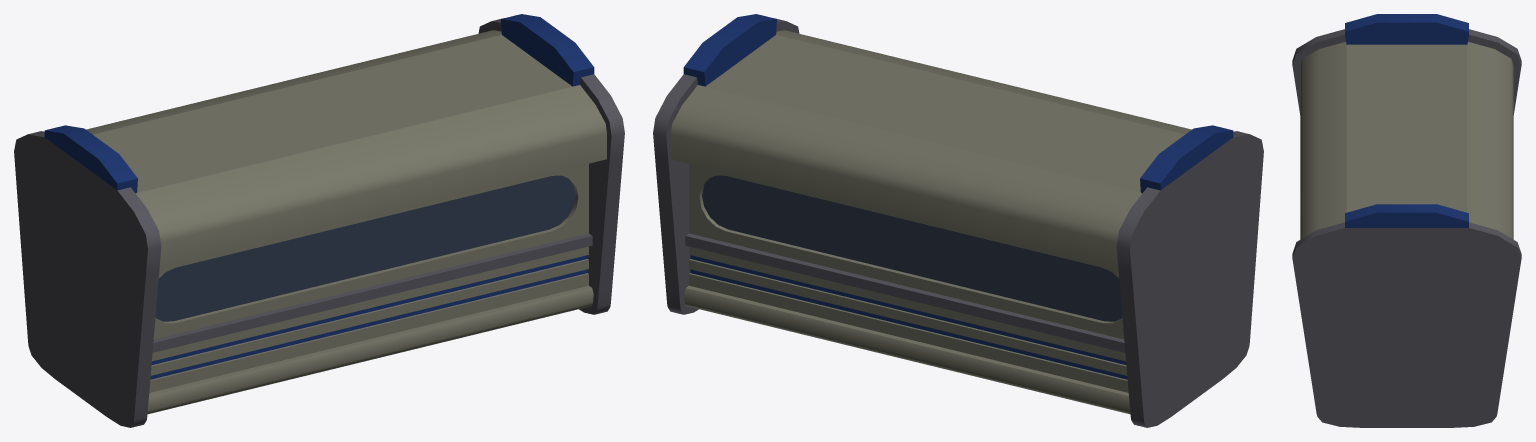
Rendered from LPSciFi_DoorwayLong.fbx.
3 views of the same model, side by side, from view 1: azimuth 30°, elevation 25°; view 2: azimuth 150°, elevation 25°; view 3: azimuth 270°, elevation 25° (orthographic). The views are drawn at different scales.
Parts seen in each view (by area): view 1: DoorwayLong; view 2: DoorwayLong; view 3: DoorwayLong.
Boxes of the visible parts, bbox=[...] form: DoorwayLong: bbox=[14, 14, 624, 427]; DoorwayLong: bbox=[653, 14, 1263, 427]; DoorwayLong: bbox=[1292, 14, 1521, 427].
Bounding box in the file's own units: 800 × 404 × 390.
